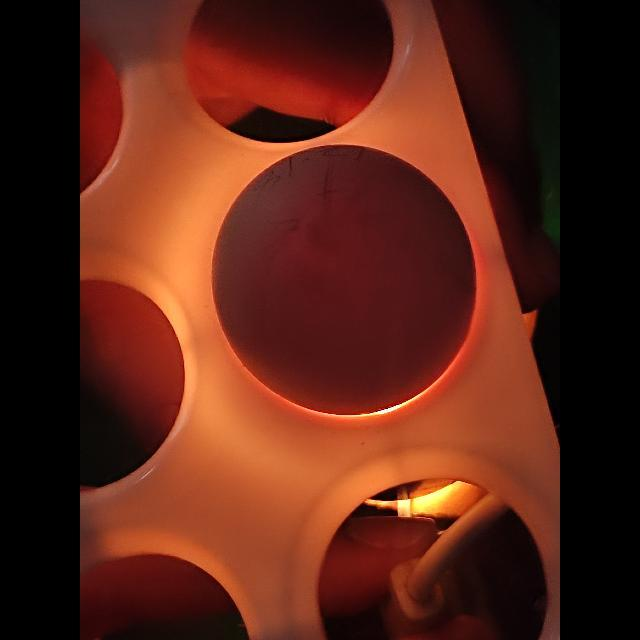Fertile: (213, 152, 484, 410)
